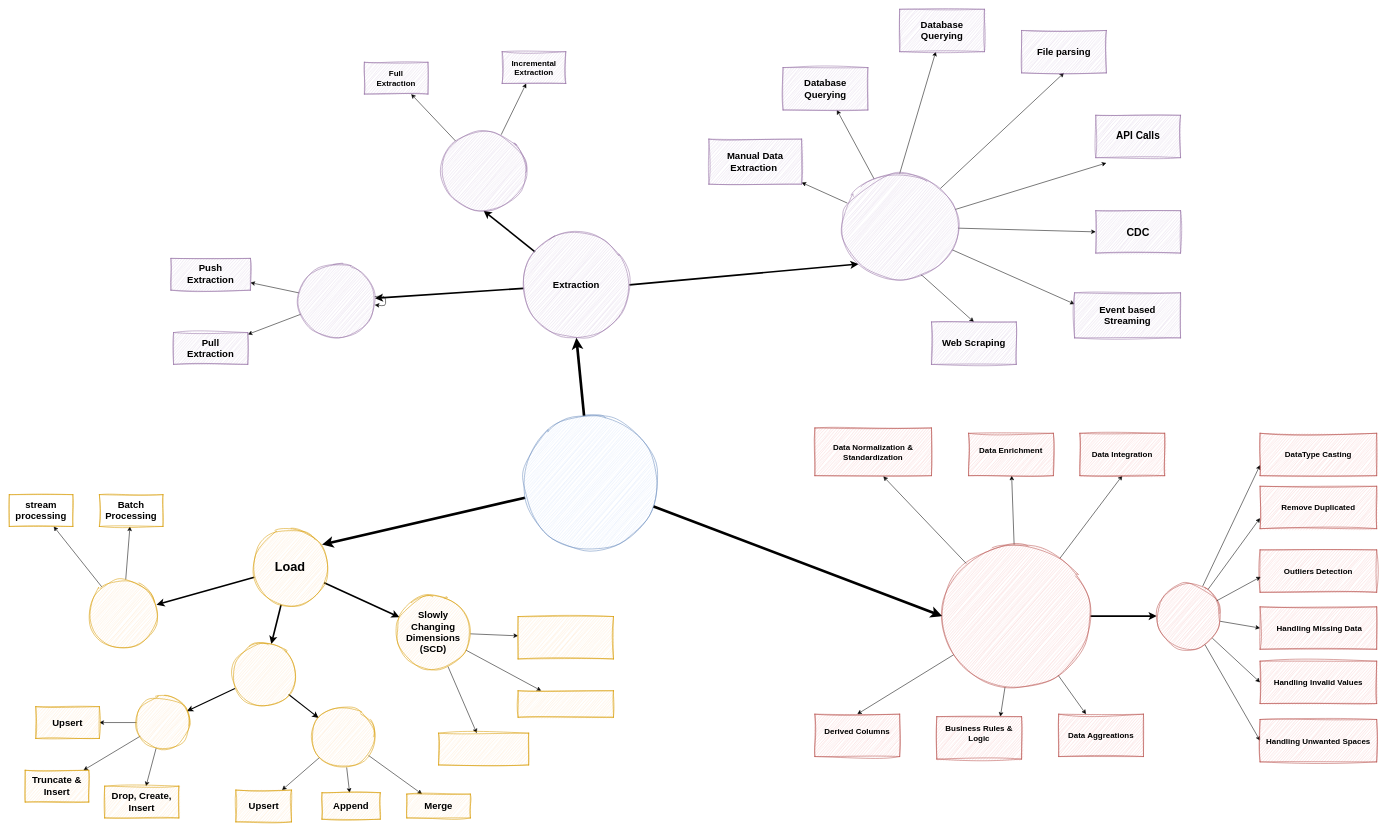
Image size: 1386x832. Some labels were removed from this diagram. Each missing label, with the centre of its shape:
"Data Cleansing" belongs at point 1188,615.
"ETL" belongs at point 590,482.
"Extract Techniques" belongs at point 899,226.
"Extract Type" belongs at point 483,171.
"Extraction Methods" belongs at point 336,300.
"Full Load" belongs at point 162,722.
"Incremental Load" belongs at point 343,737.
"Load Methods" belongs at point 263,675.
"Processing Types" belongs at point 123,613.
"SCD 0 (No Historization)" belongs at point 565,637.
"SCD 1 (Overwrite)" belongs at point 565,703.
"SCD 2 (Historization)" belongs at point 483,749.
"Transformations" belongs at point 1016,616.
